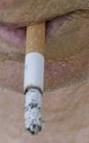smoke: (24, 12, 45, 136)
